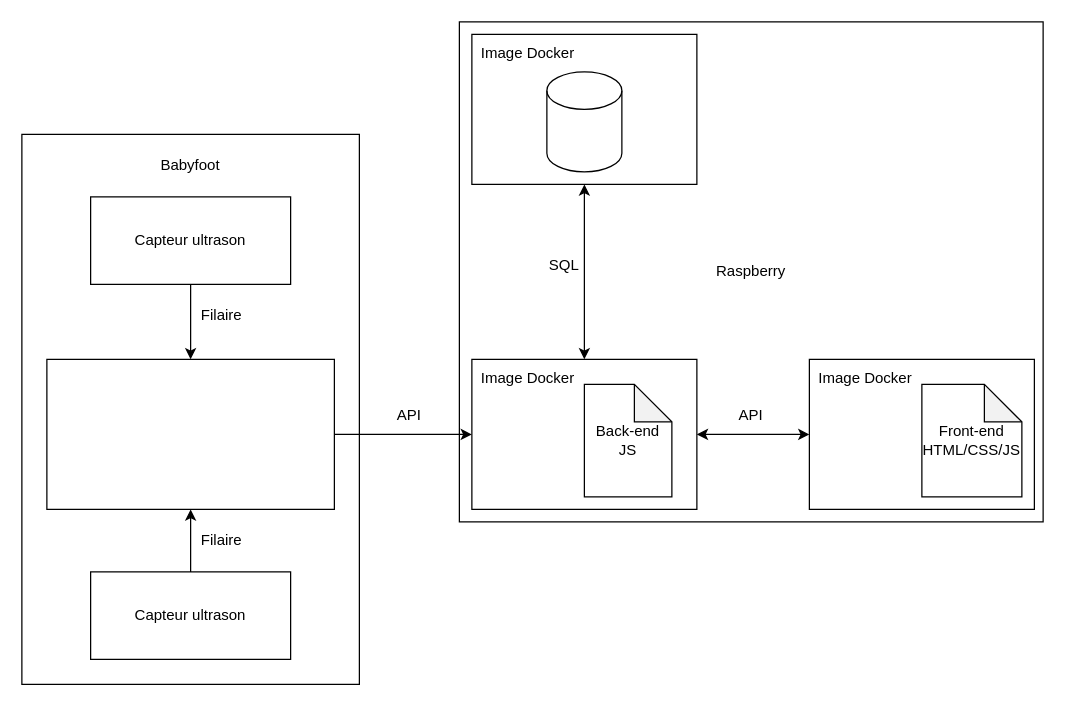
The diagram is 1065 pixels wide and 706 high, and some of its shapes have lost their labels. Each missing label, with the centre of its shape:
"Arduino ESP32" belongs at (190,433).
"BD SQLite" belongs at (584,121).
